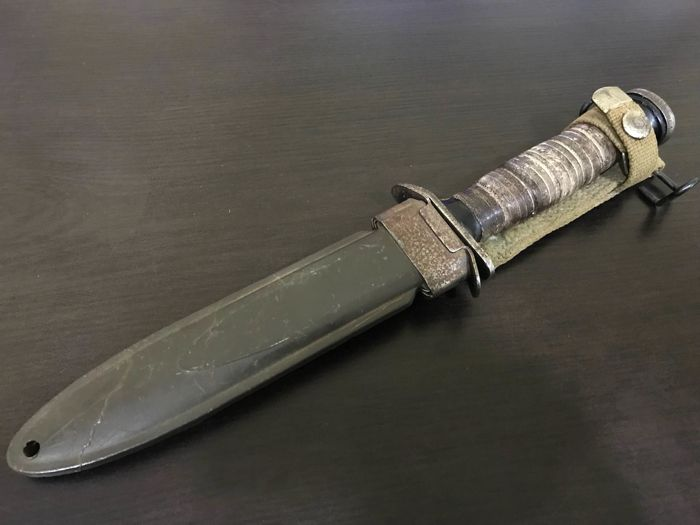knief: (22, 88, 676, 486)
